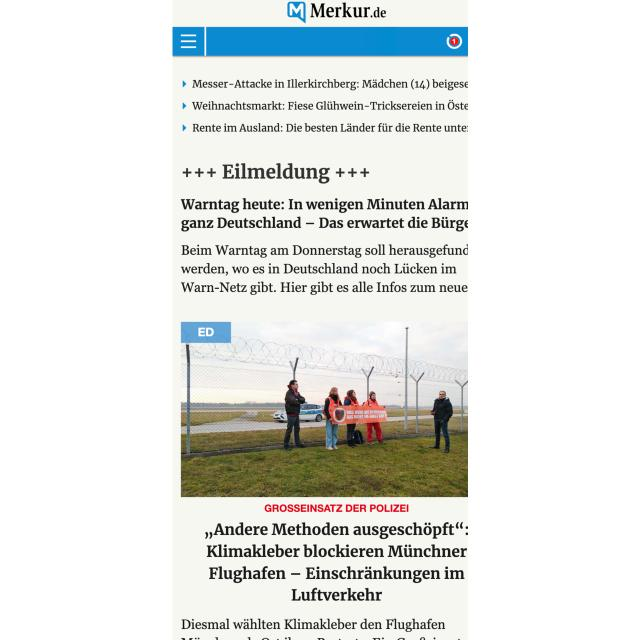RadioButton: (180, 322, 232, 344), (447, 32, 462, 50)
bag: (172, 0, 468, 58)
carousel: (180, 32, 197, 49)
copy: (172, 318, 468, 497)
date picker: (285, 0, 389, 24)
decoration: (172, 27, 204, 55)
image: (182, 161, 370, 183)
